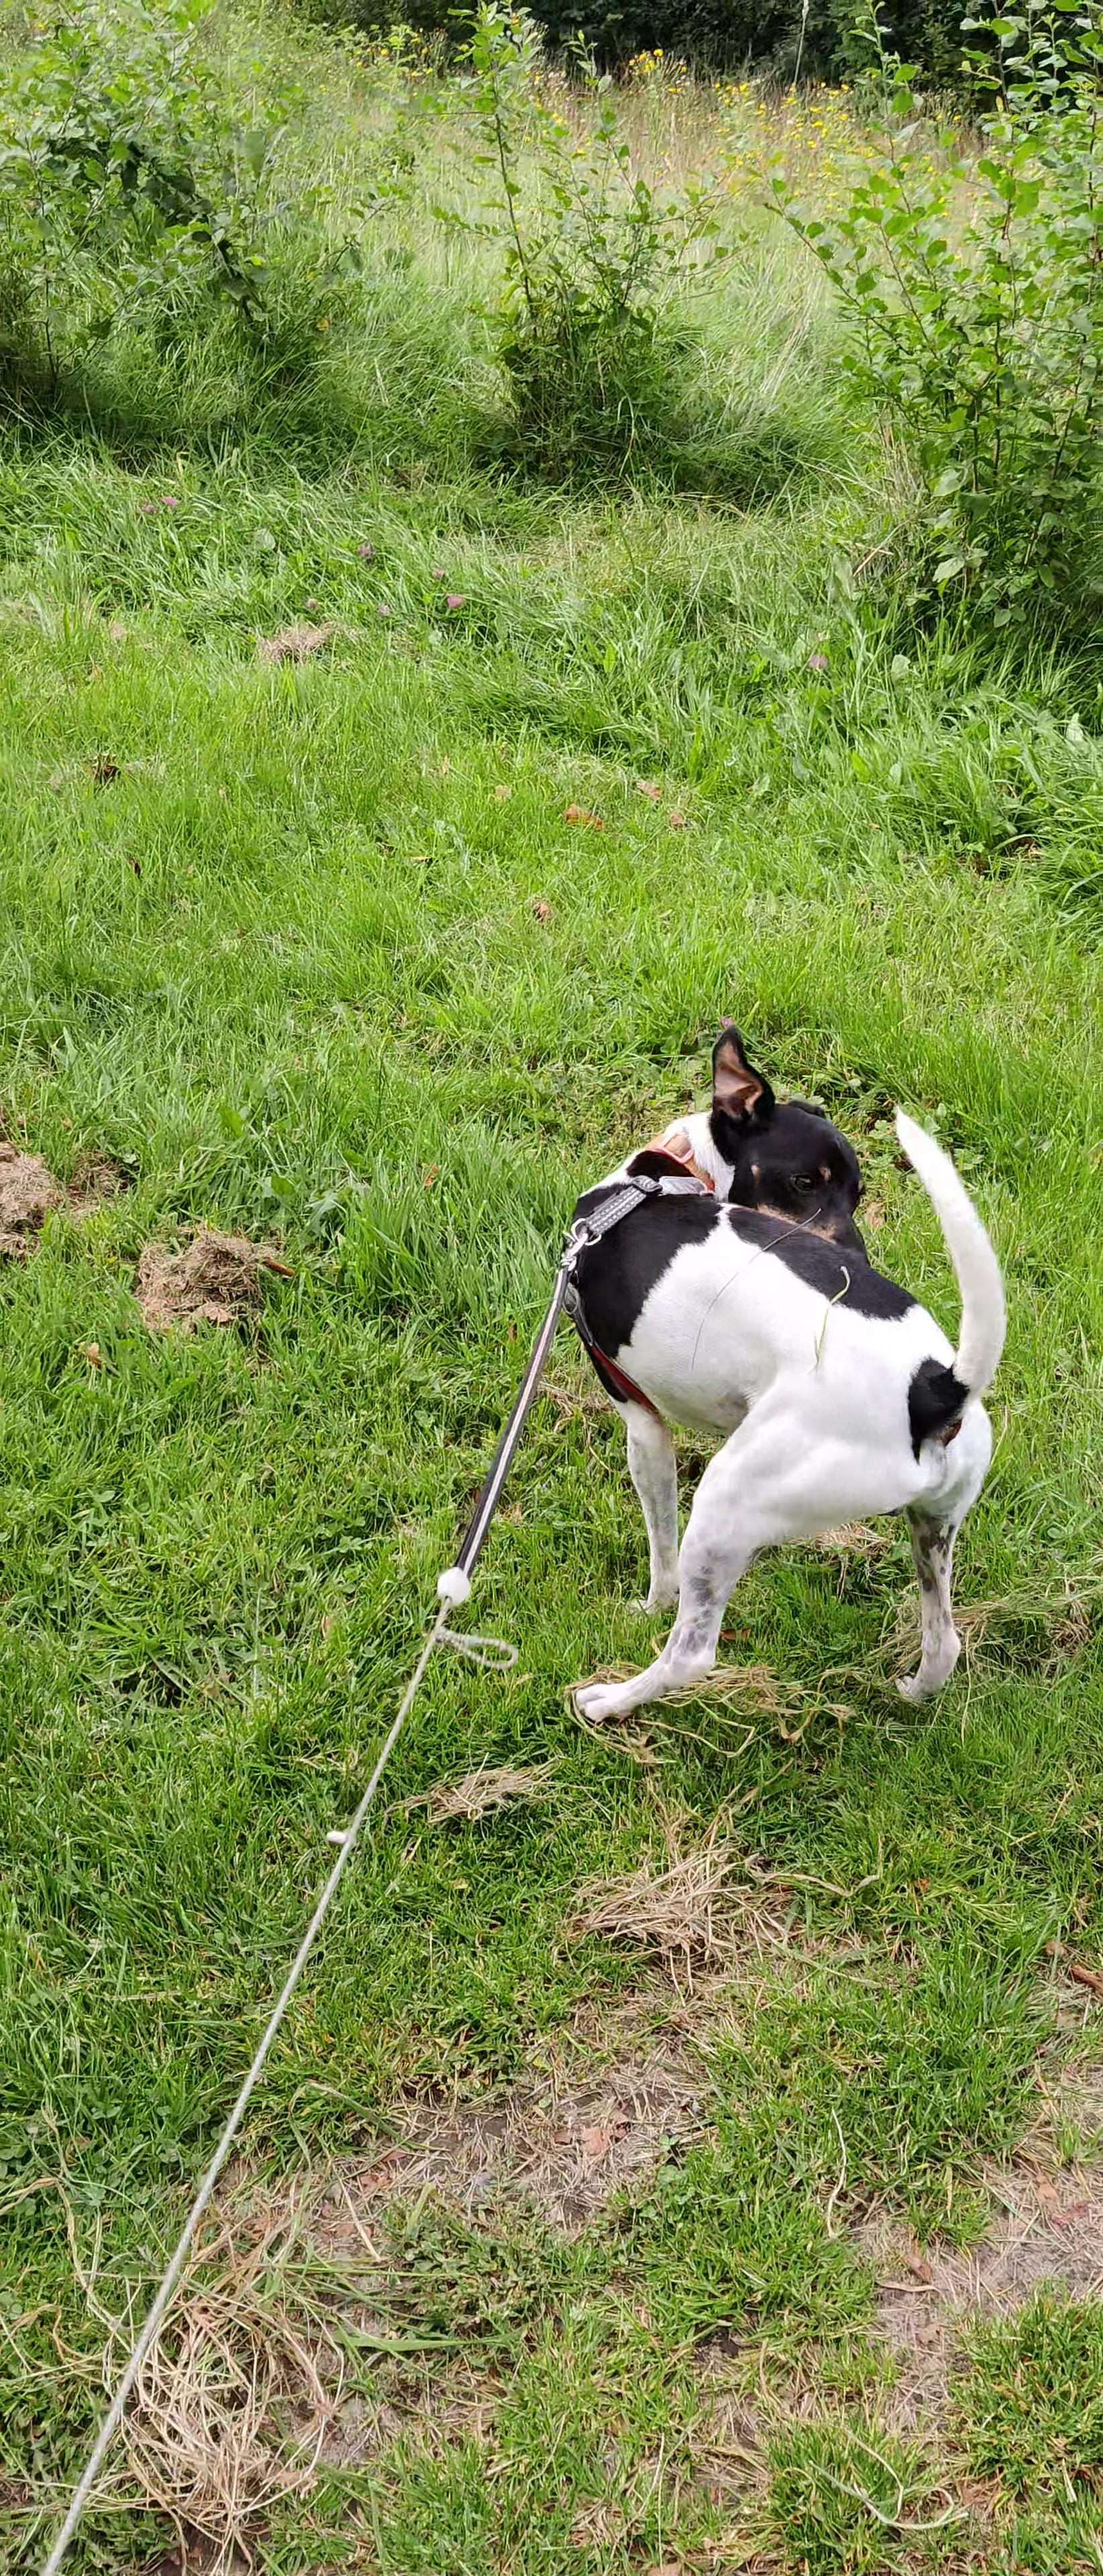Dog: (511, 1005, 1021, 1748)
